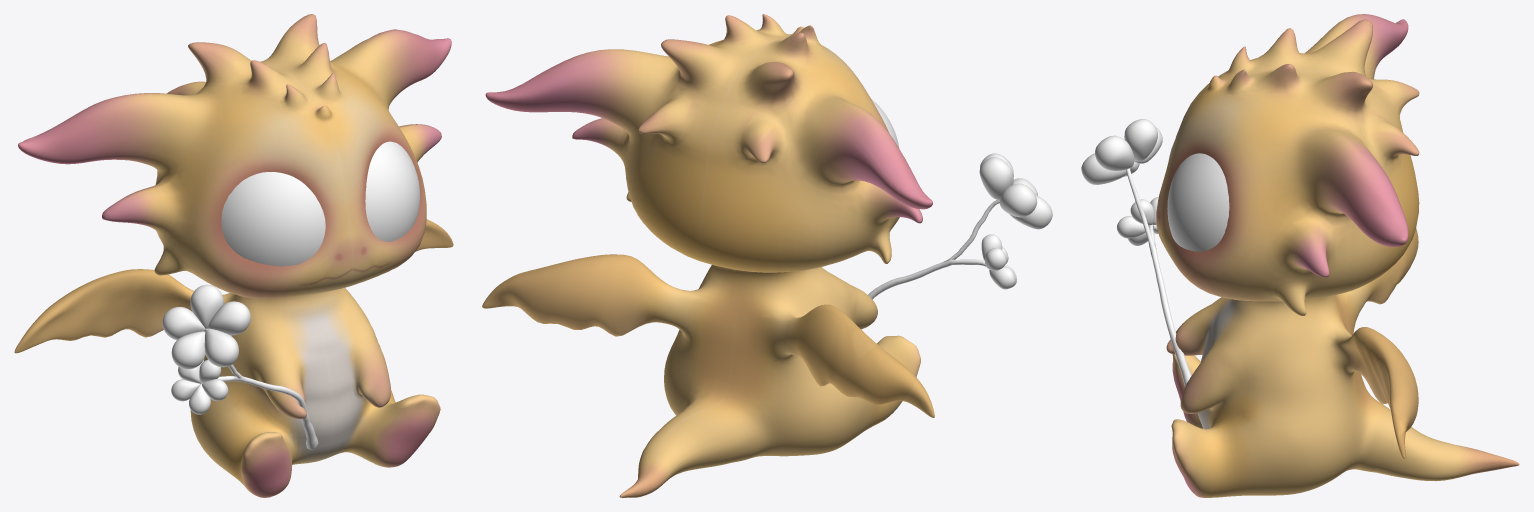
File: resume_dino.glb
3 renders of one model, left to right at view 1: azimuth 30°, elevation 25°; view 2: azimuth 150°, elevation 25°; view 3: azimuth 270°, elevation 25°, orthographic. The views are drawn at different scales.
Parts seen in each view (by area): view 1: Body, Cotton branch, Right eye, Left eye; view 2: Body, Cotton branch; view 3: Body, Cotton branch, Left eye.
Part boxes in pixels (box(x1,y1,x2,y2)): Body: box(14, 14, 453, 497); Cotton branch: box(162, 284, 318, 449); Right eye: box(221, 172, 325, 266); Left eye: box(365, 141, 420, 241); Body: box(482, 14, 934, 497); Cotton branch: box(868, 153, 1052, 299); Body: box(1156, 14, 1519, 497); Cotton branch: box(1081, 119, 1191, 386); Left eye: box(1167, 153, 1229, 251).
Size of the model in its own units: 0.6391 by 0.5583 by 0.5288.
5 materials, 1 textured.
